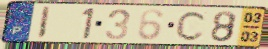1: (80, 6, 97, 41)
3: (104, 8, 132, 41)
6: (136, 8, 165, 42)
8: (210, 10, 238, 43)
C: (174, 10, 209, 42)
I: (35, 5, 52, 41)
